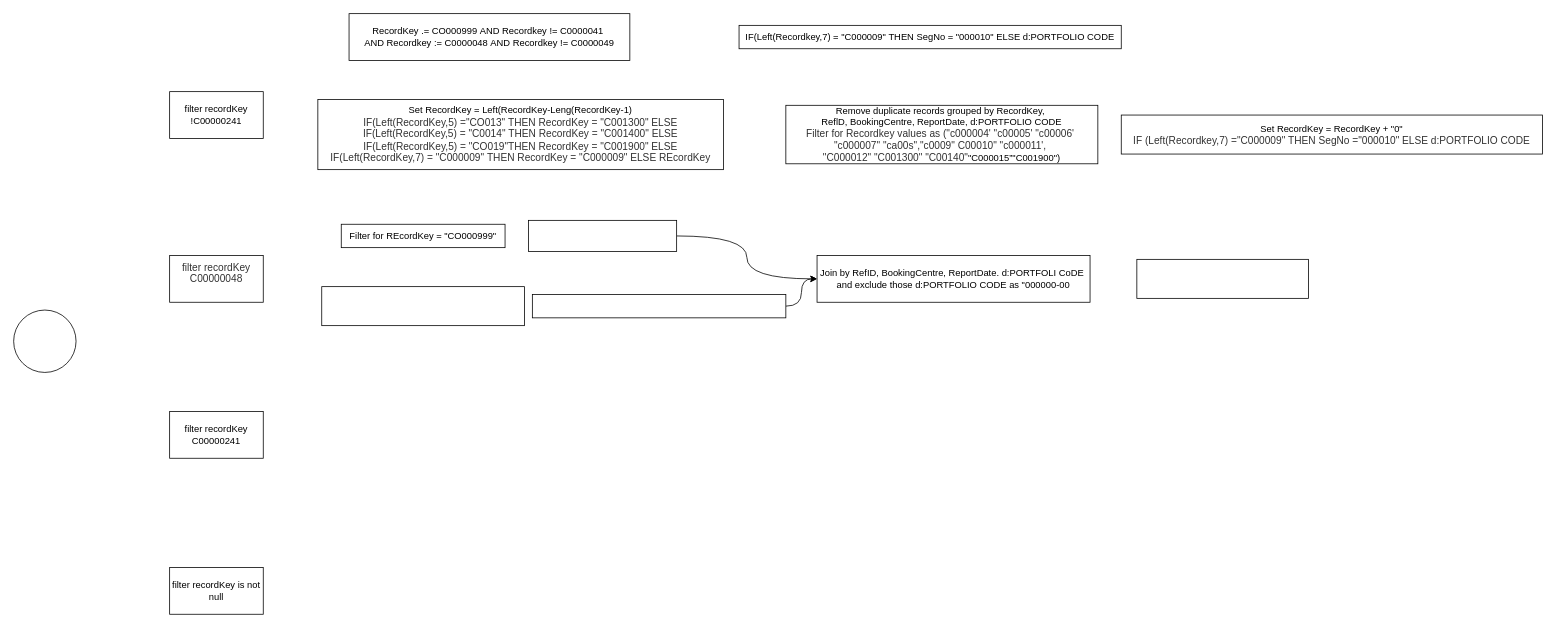
The diagram is 1556 pixels wide and 628 high, and some of its shapes have lost their labels. Here are the shapes that lost their labels. From the top down, the box of each, then its label:
(528, 220, 677, 252): Select Columne and Column9
(1136, 259, 1308, 298): Set Recordkev = C0000020 Set segNo = d:PORTFOLIO CODE
(321, 286, 525, 326): Select RefID. BookingCentre, ReportDate, d:PORTFOLIO CODE and remove duplicates
(532, 294, 786, 318): RefiD.Bookinacentrer ReportDate. d:PORTEOLIO CODE
(13, 309, 76, 372): map
